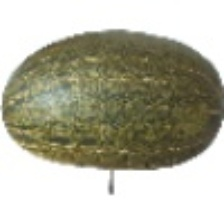honeydew: (57, 35, 207, 209)
